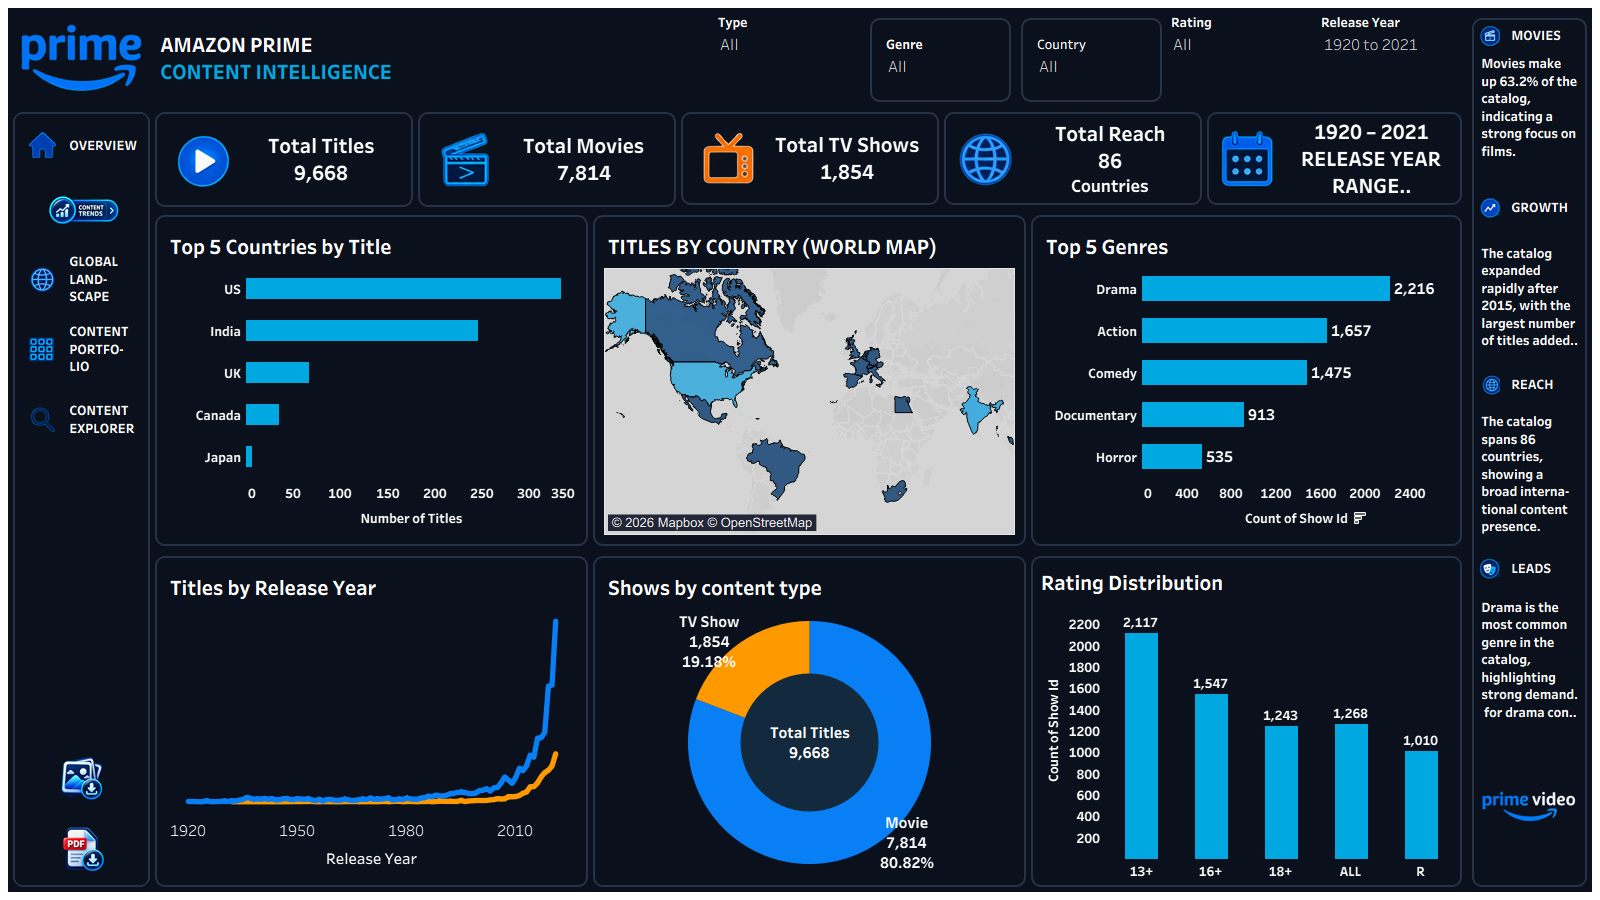

The page's visual inventory and layout, read from the dashboard file:
{"tool":"tableau","page":{"name":"Amazon | Overview Dashboard","canvas":[1600,900],"ordinal":1},"visuals":[{"type":"image","param":"Image/prime_logo.png","box":[8,8,145,99]},{"type":"text","box":[153,8,560.5,99]},{"type":"filter","title":"Total Shows","param":"[federated.17ok92y1r0kxl01af6d7q1ly0c2d].[none:type:nk]","box":[714,8,151,99]},{"type":"filter","title":"Total Shows","param":"[federated.17ok92y1r0kxl01af6d7q1ly0c2d].[none:rating:nk]","box":[1167,8,150,99]},{"type":"filter","title":"Total Shows","param":"[federated.17ok92y1r0kxl01af6d7q1ly0c2d].[none:release_year:qk]","box":[1317,8,150,99]},{"type":"image","param":"Image/insight_movies.png","box":[1474,20,30,30]},{"type":"text","box":[1504,20,81,30]},{"type":"filter","title":"Total Shows","param":"[federated.17ok92y1r0kxl01af6d7q1ly0c2d].[none:Calculation_2167447875399695:nk]","box":[882,30,117,60]},{"type":"filter","title":"Total Shows","param":"[federated.17ok92y1r0kxl01af6d7q1ly0c2d].[none:country:nk]","box":[1033,30,117,60]},{"type":"text","box":[1474,50,111,116]},{"type":"image","param":"Image/calendar.png","box":[1209,114,75,89]},{"type":"worksheet","title":"Release year range","mark":"Automatic","box":[1284,114,176,89]},{"type":"image","param":"Image/globe.png","box":[948,116,75,85]},{"type":"worksheet","title":"Total Reach","mark":"Automatic","box":[1023,116,175,85]},{"type":"image","param":"Image/home.png","box":[22,121,40,47.6]},{"type":"text","box":[62,121,79,47.6]},{"type":"image","param":"Image/tv_show.png","box":[692,123,75,71]},{"type":"worksheet","title":"Total TV Shows","mark":"Automatic","box":[767,123,161,71]},{"type":"image","param":"Image/play.png","box":[167,124,75,71]},{"type":"worksheet","title":"Total Shows","mark":"Automatic","box":[242,124,159,71]},{"type":"image","param":"Image/clapperboard.png","box":[430,124,75,71]},{"type":"worksheet","title":"Total Movies","mark":"Automatic","box":[505,124,159,71]},{"type":"image","param":"Image/insight_growth.png","box":[1474,177,30,60]},{"type":"text","box":[1504,177,81,60]},{"type":"dashboard-object","box":[22,178.6,119,60]},{"type":"worksheet","title":"Top 5 Countries by Title","mark":"Bar","box":[162,222,419,317]},{"type":"worksheet","title":"TITLES BY COUNTRY (WORLD MAP)","mark":"Multipolygon","box":[600,222,419,317]},{"type":"worksheet","title":"Top 5 Genres","mark":"Bar","rows":["Calculation_2167447875399695"],"cols":["show_id"],"box":[1038,222,417,317]},{"type":"text","box":[1474,237,111,121.3]},{"type":"image","param":"Image/globe_outline.png","box":[22,248.6,40,60]},{"type":"text","box":[62,248.6,79,60]},{"type":"image","param":"Image/content_grid.png","box":[22,318.6,40,60]},{"type":"text","box":[62,318.6,79,60]},{"type":"image","param":"Image/insight_global.png","box":[1474,358.3,30,52]},{"type":"text","box":[1504,358.3,81,52]},{"type":"image","param":"Image/search.png","box":[22,388.6,40,60]},{"type":"text","box":[62,388.6,79,60]},{"type":"text","box":[1474,410.3,111,129.3]},{"type":"blank","box":[17,453.6,129,77.5]},{"type":"blank","box":[17,531.1,129,57]},{"type":"image","param":"Image/insight_drama.png","box":[1474,539.5,30,55]},{"type":"text","box":[1504,539.5,81,55]},{"type":"worksheet","title":"Rating Distribution","mark":"Bar","rows":["show_id"],"cols":["rating"],"box":[1033,558,427,327]},{"type":"worksheet","title":"Titles by Release Year","mark":"Line","rows":["title"],"cols":["release_year"],"box":[162,563,419,317]},{"type":"worksheet","title":"Shows by content type","mark":"Pie","rows":["Calculation_2167447834718217","Calculation_2167447834718217"],"box":[600,563,419,317]},{"type":"blank","box":[17,588.1,129,77.5]},{"type":"text","box":[1474,594.5,111,131]},{"type":"blank","box":[17,665.5,129,77.5]},{"type":"image","param":"Image/prime_video_logo.png","box":[1474,725.5,111,159.5]},{"type":"dashboard-object","box":[17,743,129,70]},{"type":"dashboard-object","box":[17,813,129,70]}]}

Visuals, with their boxes in screenshot pixels (x1, y1, x2, y2), scaled from the page's 1600x900 canvas onto the 1600x900 screenshot:
image: bbox=[8, 8, 153, 107]
text: bbox=[153, 8, 714, 107]
"Total Shows" filter: bbox=[714, 8, 865, 107]
"Total Shows" filter: bbox=[1167, 8, 1317, 107]
"Total Shows" filter: bbox=[1317, 8, 1467, 107]
image: bbox=[1474, 20, 1504, 50]
text: bbox=[1504, 20, 1585, 50]
"Total Shows" filter: bbox=[882, 30, 999, 90]
"Total Shows" filter: bbox=[1033, 30, 1150, 90]
text: bbox=[1474, 50, 1585, 166]
image: bbox=[1209, 114, 1284, 203]
"Release year range" worksheet: bbox=[1284, 114, 1460, 203]
image: bbox=[948, 116, 1023, 201]
"Total Reach" worksheet: bbox=[1023, 116, 1198, 201]
image: bbox=[22, 121, 62, 169]
text: bbox=[62, 121, 141, 169]
image: bbox=[692, 123, 767, 194]
"Total TV Shows" worksheet: bbox=[767, 123, 928, 194]
image: bbox=[167, 124, 242, 195]
"Total Shows" worksheet: bbox=[242, 124, 401, 195]
image: bbox=[430, 124, 505, 195]
"Total Movies" worksheet: bbox=[505, 124, 664, 195]
image: bbox=[1474, 177, 1504, 237]
text: bbox=[1504, 177, 1585, 237]
dashboard-object: bbox=[22, 179, 141, 239]
"Top 5 Countries by Title" worksheet (Bar marks): bbox=[162, 222, 581, 539]
"TITLES BY COUNTRY (WORLD MAP)" worksheet (Multipolygon marks): bbox=[600, 222, 1019, 539]
"Top 5 Genres" worksheet (Bar marks): bbox=[1038, 222, 1455, 539]
text: bbox=[1474, 237, 1585, 358]
image: bbox=[22, 249, 62, 309]
text: bbox=[62, 249, 141, 309]
image: bbox=[22, 319, 62, 379]
text: bbox=[62, 319, 141, 379]
image: bbox=[1474, 358, 1504, 410]
text: bbox=[1504, 358, 1585, 410]
image: bbox=[22, 389, 62, 449]
text: bbox=[62, 389, 141, 449]
text: bbox=[1474, 410, 1585, 540]
blank: bbox=[17, 454, 146, 531]
blank: bbox=[17, 531, 146, 588]
image: bbox=[1474, 540, 1504, 594]
text: bbox=[1504, 540, 1585, 594]
"Rating Distribution" worksheet (Bar marks): bbox=[1033, 558, 1460, 885]
"Titles by Release Year" worksheet (Line marks): bbox=[162, 563, 581, 880]
"Shows by content type" worksheet (Pie marks): bbox=[600, 563, 1019, 880]
blank: bbox=[17, 588, 146, 666]
text: bbox=[1474, 594, 1585, 726]
blank: bbox=[17, 666, 146, 743]
image: bbox=[1474, 726, 1585, 885]
dashboard-object: bbox=[17, 743, 146, 813]
dashboard-object: bbox=[17, 813, 146, 883]
